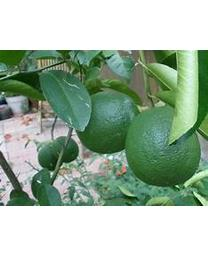lemon: (125, 107, 202, 188), (78, 90, 142, 156), (39, 142, 66, 170), (53, 136, 78, 161)
